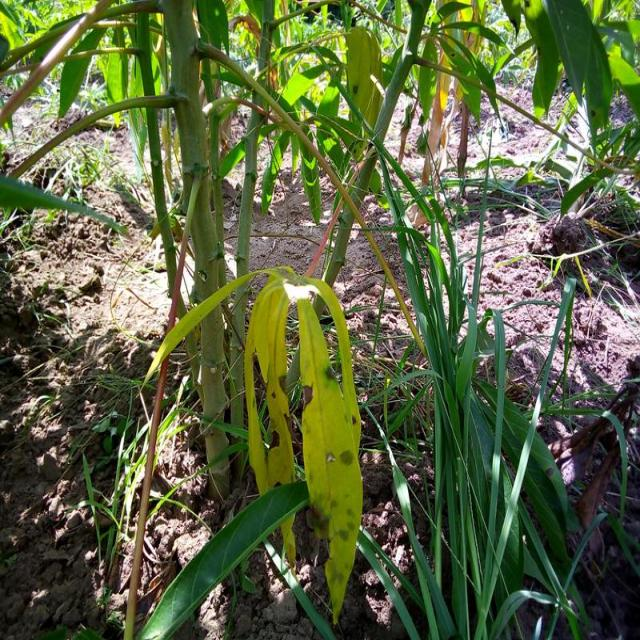cassava leaf: (243, 268, 363, 626), (134, 477, 310, 638)
